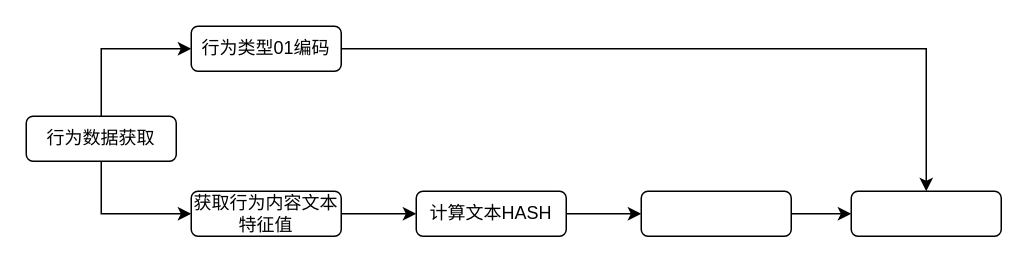
This 1028x264 diagram has some shape labels left out. The shapes that lost their labels are listed below. From the top down, each one's centre as x and y in pixels, then its label:
the point at 715,213: 除以10 7 ，缩小数据范围
the point at 925,213: 得到连续性数值
